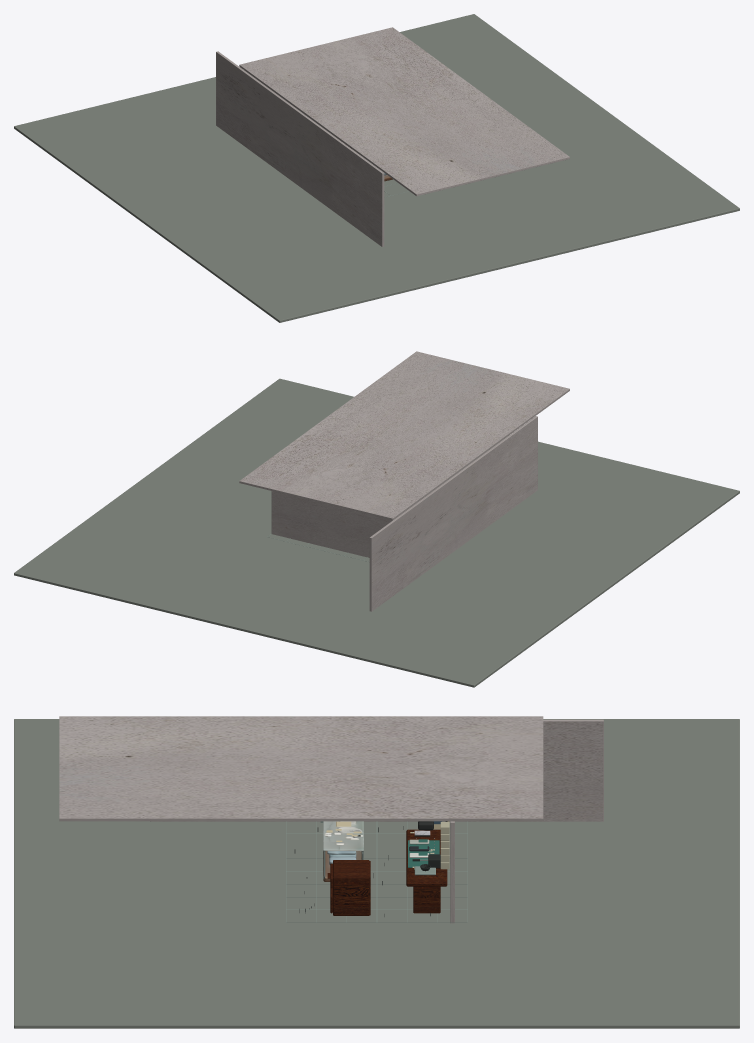
The model's file is oldlane-shop-hyper3d.glb.
3 views of the same model, one above another, from view 1: azimuth 30°, elevation 25°; view 2: azimuth 150°, elevation 25°; view 3: azimuth 270°, elevation 25° (orthographic). The views are drawn at different scales.
Visible parts, largest first — view 1: Floor, Shop_ceiling, Left_wall; view 2: Floor, Shop_ceiling, Left_wall, Rear_wall; view 3: Floor, Shop_ceiling, Left_wall, Hyper3D_display_counter, Cabinet_right, Repair_bench, Bench_leg.001, Cabinet_top, Rear_wall.
Boxes of the visible parts, left/top/right/bottom form: Floor: left=14, top=14, right=739, bottom=322; Shop_ceiling: left=239, top=27, right=569, bottom=196; Left_wall: left=216, top=51, right=384, bottom=246; Floor: left=14, top=378, right=739, bottom=687; Shop_ceiling: left=239, top=351, right=569, bottom=520; Left_wall: left=369, top=416, right=537, bottom=611; Rear_wall: left=271, top=491, right=392, bottom=557; Floor: left=14, top=719, right=739, bottom=1028; Shop_ceiling: left=59, top=716, right=543, bottom=821; Left_wall: left=150, top=719, right=603, bottom=821; Hyper3D_display_counter: left=323, top=821, right=363, bottom=881; Cabinet_right: left=333, top=877, right=369, bottom=915; Repair_bench: left=406, top=829, right=447, bottom=886; Bench_leg.001: left=413, top=886, right=440, bottom=913; Cabinet_top: left=333, top=860, right=369, bottom=877; Rear_wall: left=450, top=821, right=454, bottom=923.
Size of the model in its own units: 24 by 3.94 by 24.
Materials: 31 (17 with a texture image).
